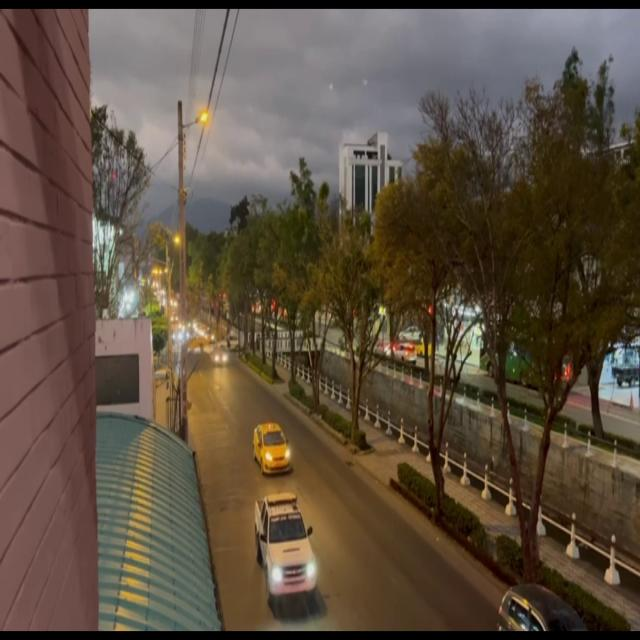CMT: (257, 492, 313, 605)
SED: (256, 426, 292, 474)
